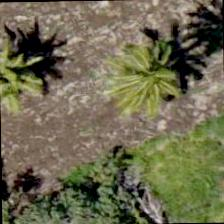Kelapa_Sawit: (100, 27, 191, 119)
